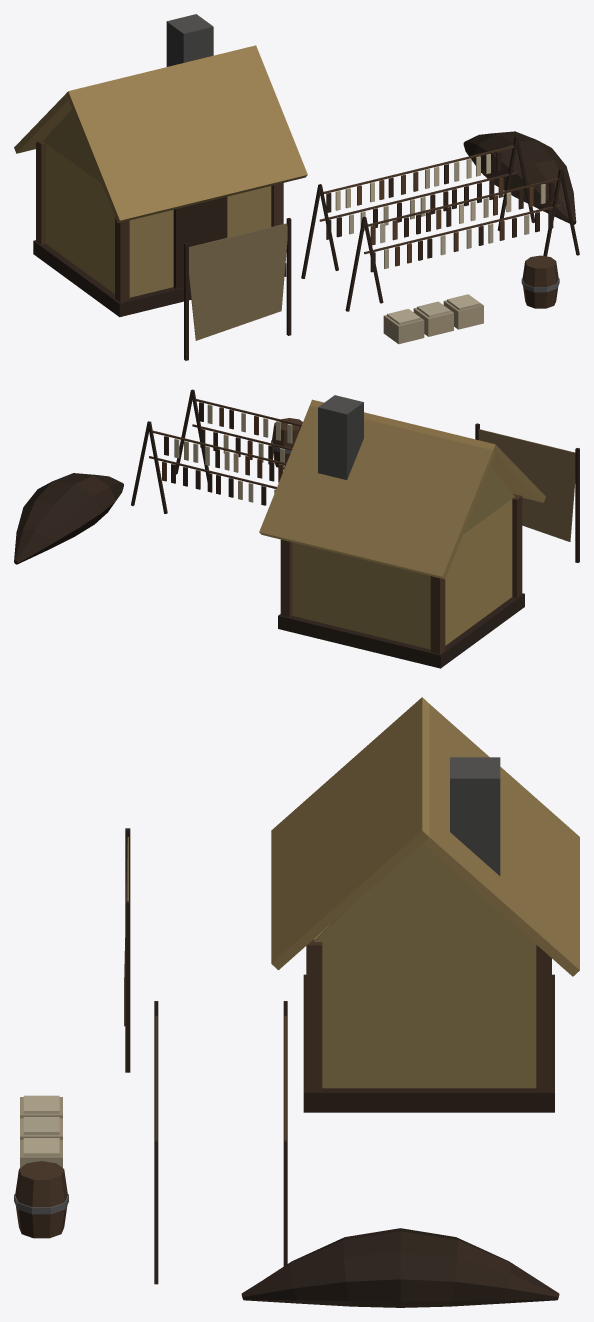
File: walk_tidebound_fishery.glb
3 views of the same model, one above another, from view 1: azimuth 30°, elevation 25°; view 2: azimuth 150°, elevation 25°; view 3: azimuth 270°, elevation 25° (orthographic). The views are drawn at different scales.
Visible parts, largest first — view 1: walk_tidebound_fishery, walk_tidebound_fishery_roof; view 2: walk_tidebound_fishery, walk_tidebound_fishery_roof; view 3: walk_tidebound_fishery, walk_tidebound_fishery_roof.
Part boxes in pixels (x1=…): walk_tidebound_fishery: x1=33, y1=110, x2=579, y2=360; walk_tidebound_fishery_roof: x1=14, y1=14, x2=307, y2=223; walk_tidebound_fishery: x1=14, y1=389, x2=579, y2=668; walk_tidebound_fishery_roof: x1=259, y1=395, x2=545, y2=579; walk_tidebound_fishery: x1=14, y1=828, x2=559, y2=1307; walk_tidebound_fishery_roof: x1=271, y1=697, x2=579, y2=976.
Size of what is drawn, in the model's own units: 11.15 by 4.9 by 7.88.
2 materials, 2 textured.
